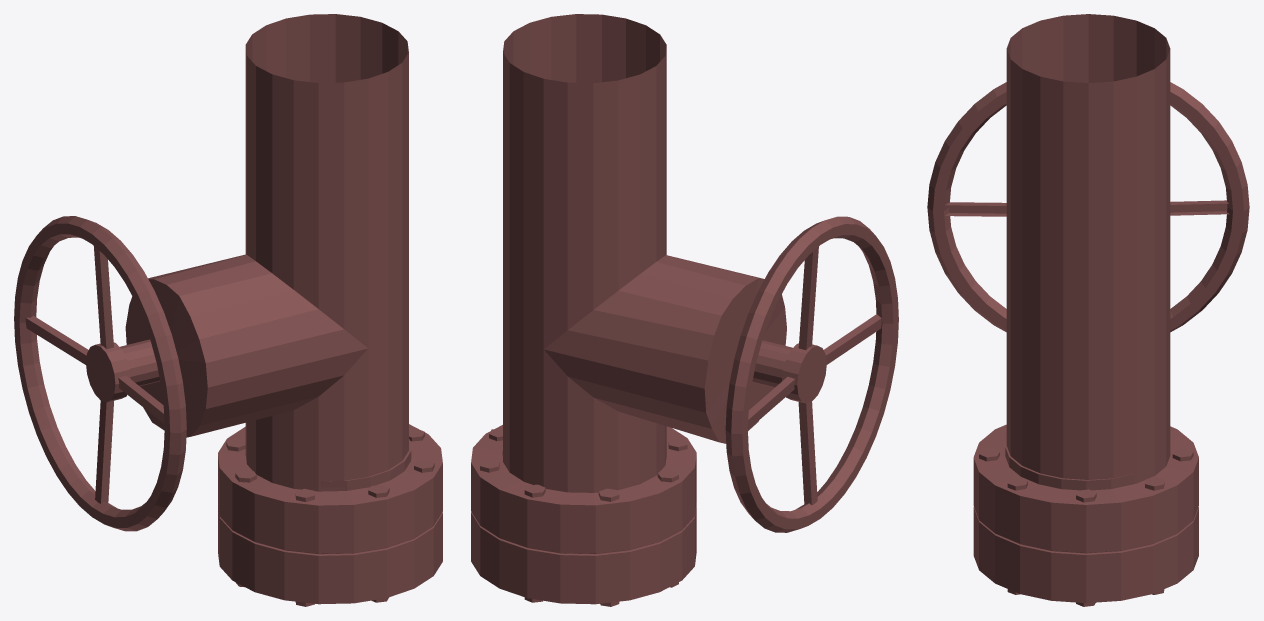
The model's file is valvePipe.fbx.
The picture shows the model from 3 angles, left to right: view 1: azimuth 30°, elevation 25°; view 2: azimuth 150°, elevation 25°; view 3: azimuth 270°, elevation 25°; orthographic projection.
Visible parts, largest first — view 1: valvePipe; view 2: valvePipe; view 3: valvePipe.
Part boxes in pixels (box(x1,y1,x2,y2)): valvePipe: box(14, 14, 442, 606); valvePipe: box(471, 14, 898, 606); valvePipe: box(927, 14, 1249, 606).
Bounding box in the file's own units: 14.65 × 21.56 × 12.24.
